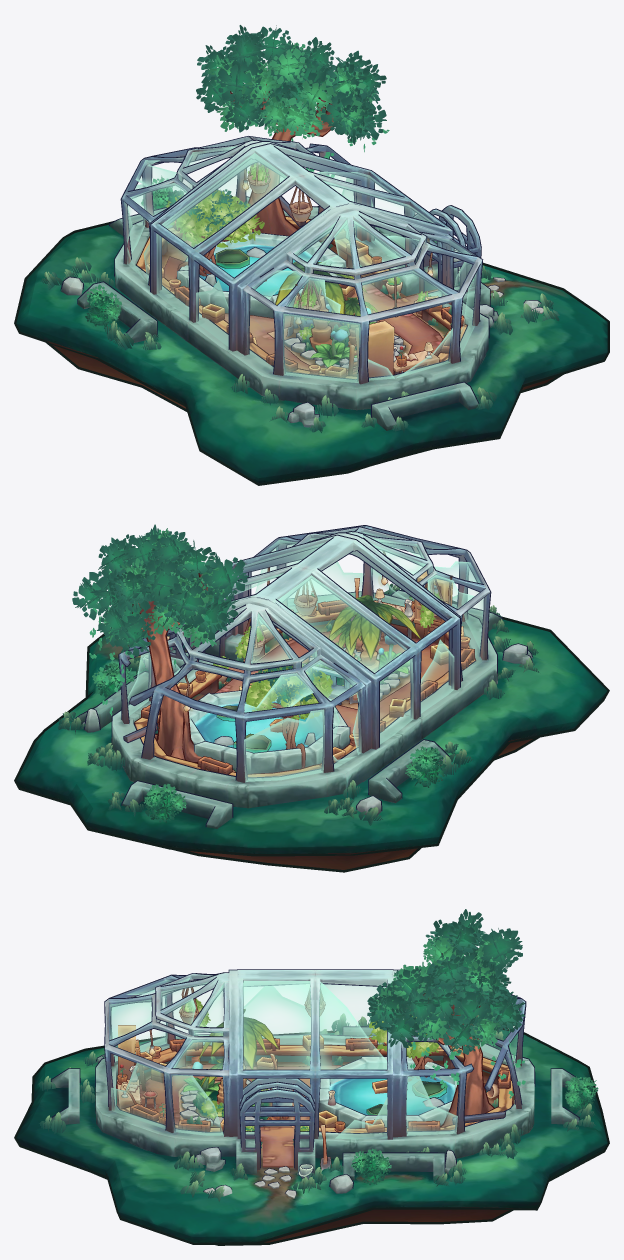
The model's file is stylized_mangrove_greenhouse.glb.
3 views of the same model, one above another, from view 1: azimuth 30°, elevation 25°; view 2: azimuth 150°, elevation 25°; view 3: azimuth 270°, elevation 25° (orthographic). The views are drawn at different scales.
Parts seen in each view (by area): view 1: Plane, Cube.042, Plane.021, Cube.037, Cube.001, Cube.007, Cube.002, Cube.003, Cube.004, Circle, Cube.028, Plane.018 (+9 smaller); view 2: Plane, Cube.042, Plane.021, Cube.002, Cube.001, Cube.004, Circle, Cube.037, Cube.007, Cube.003, Circle.001, Cube.028 (+13 smaller); view 3: Plane, Cube.042, Plane.021, Cube.037, Cube.001, Cube.004, Cube.007, Circle, Cube.005, Cube.002, Cube.028, Cube.003 (+11 smaller).
Boxes of the visible parts, bbox=[...] form: Plane: bbox=[14, 194, 609, 485]; Cube.042: bbox=[124, 146, 477, 382]; Plane.021: bbox=[196, 25, 386, 144]; Cube.037: bbox=[242, 210, 483, 384]; Cube.001: bbox=[150, 143, 453, 351]; Cube.007: bbox=[187, 263, 490, 410]; Cube.002: bbox=[120, 136, 356, 285]; Cube.003: bbox=[150, 141, 453, 353]; Cube.004: bbox=[114, 196, 404, 341]; Circle: bbox=[177, 232, 346, 317]; Cube.028: bbox=[164, 256, 442, 374]; Plane.018: bbox=[163, 189, 264, 247]; Plane: bbox=[14, 592, 609, 872]; Cube.042: bbox=[127, 532, 486, 781]; Plane.021: bbox=[72, 524, 248, 656]; Cube.002: bbox=[118, 603, 368, 782]; Cube.001: bbox=[188, 534, 460, 749]; Cube.004: bbox=[111, 663, 422, 808]; Circle: bbox=[188, 690, 350, 773]; Cube.037: bbox=[248, 525, 491, 681]; Cube.007: bbox=[171, 591, 497, 738]; Cube.003: bbox=[154, 532, 460, 751]; Circle.001: bbox=[132, 573, 207, 762]; Cube.028: bbox=[214, 623, 448, 740]; Plane: bbox=[14, 1028, 609, 1245]; Cube.042: bbox=[109, 977, 517, 1139]; Plane.021: bbox=[367, 909, 525, 1054]; Cube.037: bbox=[104, 972, 229, 1136]; Cube.001: bbox=[237, 969, 393, 1139]; Cube.004: bbox=[315, 1034, 535, 1159]; Cube.007: bbox=[95, 1034, 316, 1174]; Circle: bbox=[319, 1056, 457, 1128]; Cube.005: bbox=[239, 1078, 315, 1170]; Cube.002: bbox=[401, 994, 526, 1136]; Cube.028: bbox=[116, 1064, 485, 1167]; Cube.003: bbox=[228, 969, 401, 1137].
Size of the model in its own units: 20.06 by 12.93 by 23.94.
Materials: 18 (15 with a texture image).
